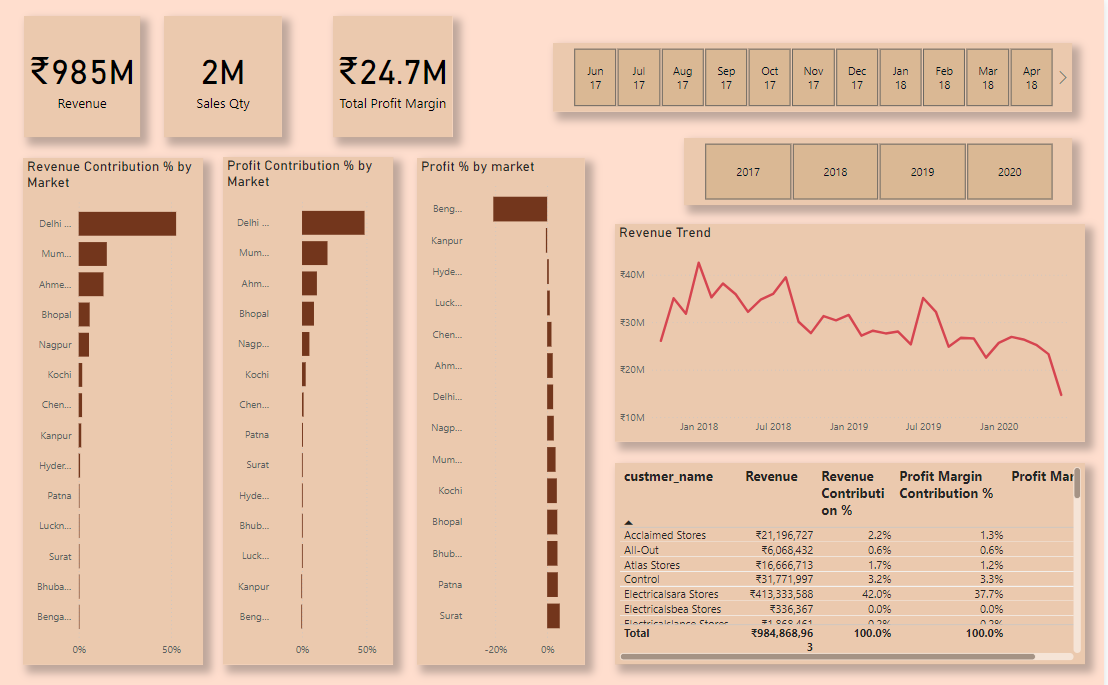

The page's visual inventory and layout, read from the dashboard file:
{"tool":"powerbi","page":{"name":"Profit Analysis","canvas":[1350,850],"ordinal":1},"visuals":[{"type":"card","fields":{"Values":["BaseMeasures (2).Revenue"]},"box":[30,20,142,148],"z":0},{"type":"card","fields":{"Values":["BaseMeasures (2).Sales Qty"]},"box":[202,20,144,148],"z":1000},{"type":"barChart","title":"Profit % by market","fields":{"Y":["BaseMeasures (2).Profit Margin %"],"Category":["sales markets.markets_name"]},"box":[510.6,192.4,204.6,619],"z":2000},{"type":"barChart","title":"Profit Contribution % by Market","fields":{"Y":["BaseMeasures (2).Profit Margin Contribution %"],"Category":["sales markets.markets_name"]},"box":[274,192,208,620],"z":3000},{"type":"slicer","fields":{"Values":["sales date.year"]},"box":[836,168,474,82],"z":4000},{"type":"slicer","fields":{"Values":["sales date.cy_date"]},"box":[676,52,634,84],"z":5000},{"type":"tableEx","title":"Top 5 Customers","fields":{"Values":["sales customers.custmer_name","BaseMeasures (2).Revenue","BaseMeasures (2).Revenue Contribution %","BaseMeasures (2).Profit Margin Contribution %","BaseMeasures (2).Profit Margin %"]},"box":[752,566,574,246],"z":6000},{"type":"lineChart","title":"Revenue Trend","fields":{"Y":["BaseMeasures (2).Revenue"],"Category":["sales date.cy_date"]},"box":[752,274,574,266],"z":7000},{"type":"card","fields":{"Values":["BaseMeasures (2).Total Profit Margin"]},"box":[408,20,146,148],"z":8000},{"type":"barChart","title":"Revenue Contribution % by Market","fields":{"Y":["BaseMeasures (2).Revenue Contribution %"],"Category":["sales markets.markets_name"]},"box":[29.7,192.4,220.3,619],"z":9000}]}

Visuals, with their boxes in screenshot pixels (x1, y1, x2, y2), scaled from the page's 1350x850 canvas onto the 1108x685 screenshot:
card - BaseMeasures (2).Revenue: locate(25, 16, 141, 135)
card - BaseMeasures (2).Sales Qty: locate(166, 16, 284, 135)
"Profit % by market" barChart: locate(419, 155, 587, 654)
"Profit Contribution % by Market" barChart: locate(225, 155, 396, 654)
slicer - sales date.year: locate(686, 135, 1075, 201)
slicer - sales date.cy_date: locate(555, 42, 1075, 110)
"Top 5 Customers" tableEx: locate(617, 456, 1088, 654)
"Revenue Trend" lineChart: locate(617, 221, 1088, 435)
card - BaseMeasures (2).Total Profit Margin: locate(335, 16, 455, 135)
"Revenue Contribution % by Market" barChart: locate(24, 155, 205, 654)
